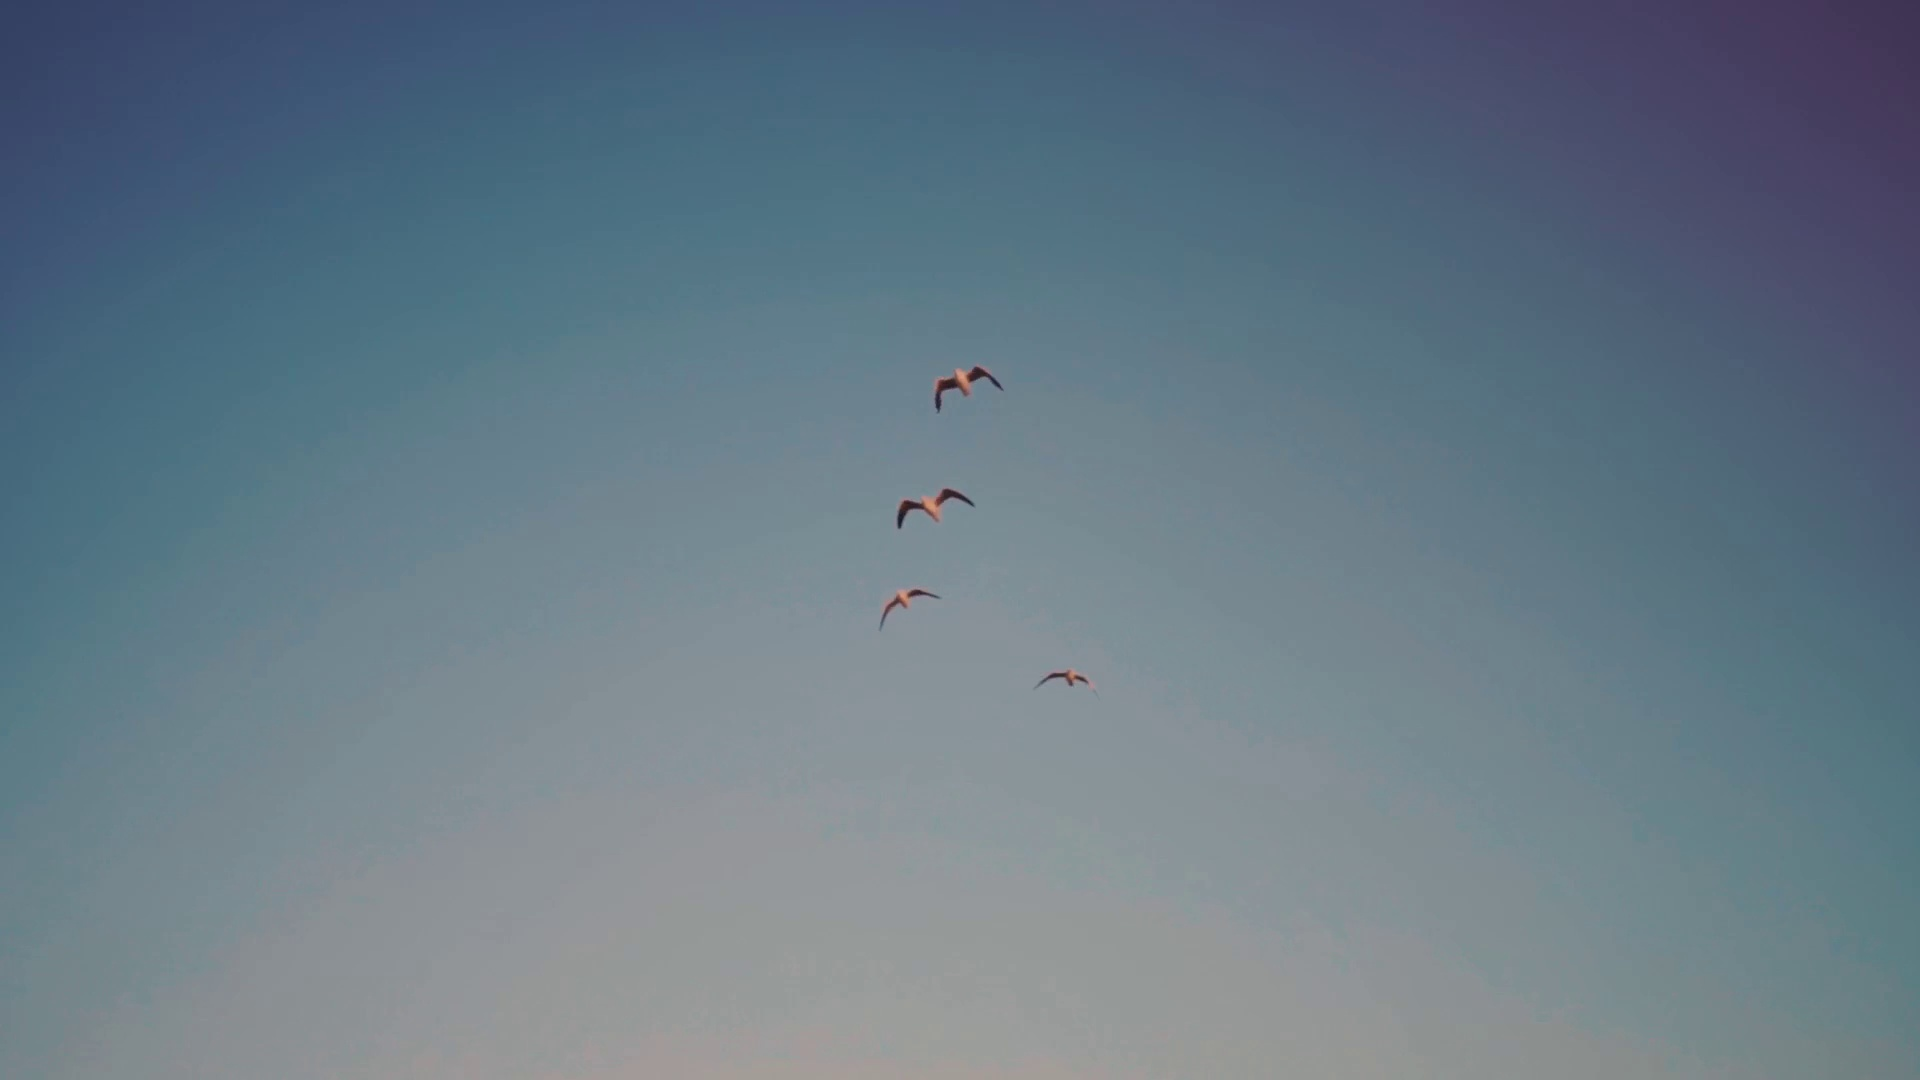bird: (934, 363, 1004, 411), (876, 582, 945, 629), (894, 488, 980, 526), (1033, 669, 1098, 699)
